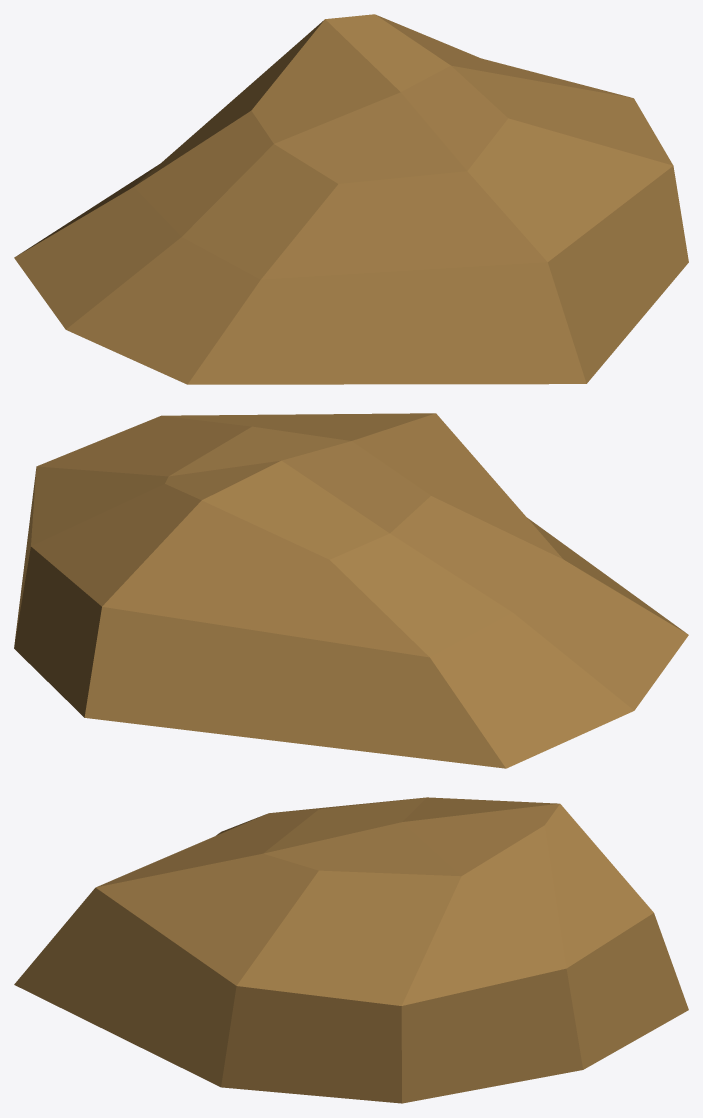
Rendered from MudRocks002.fbx.
3 views of the same model, one above another, from view 1: azimuth 30°, elevation 25°; view 2: azimuth 150°, elevation 25°; view 3: azimuth 270°, elevation 25° (orthographic). The views are drawn at different scales.
Visible parts, largest first — view 1: Cube.020; view 2: Cube.020; view 3: Cube.020.
Boxes of the visible parts, x1,y1,x2,y2 form: Cube.020: (14,14,688,384); Cube.020: (14,413,688,768); Cube.020: (14,797,688,1103).
Size of the model in its own units: 378 by 110 by 373.
